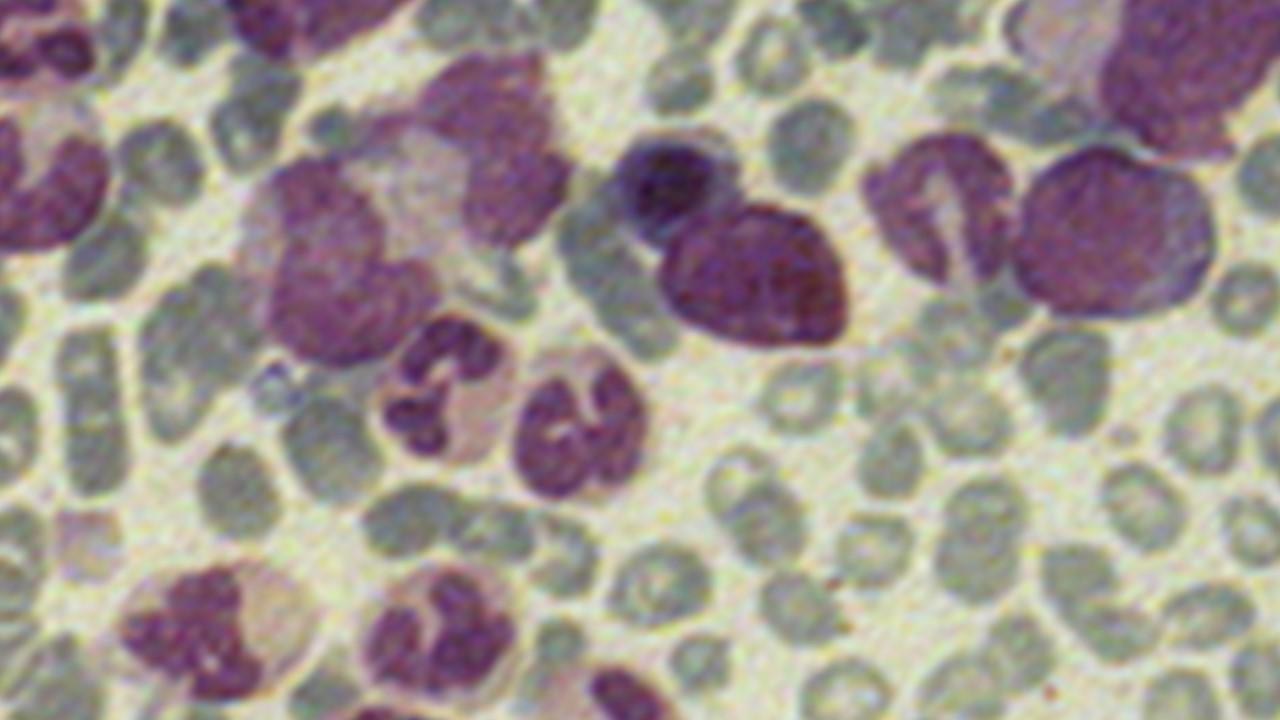RBC: (1158, 374, 1250, 483), (1248, 373, 1280, 495)
